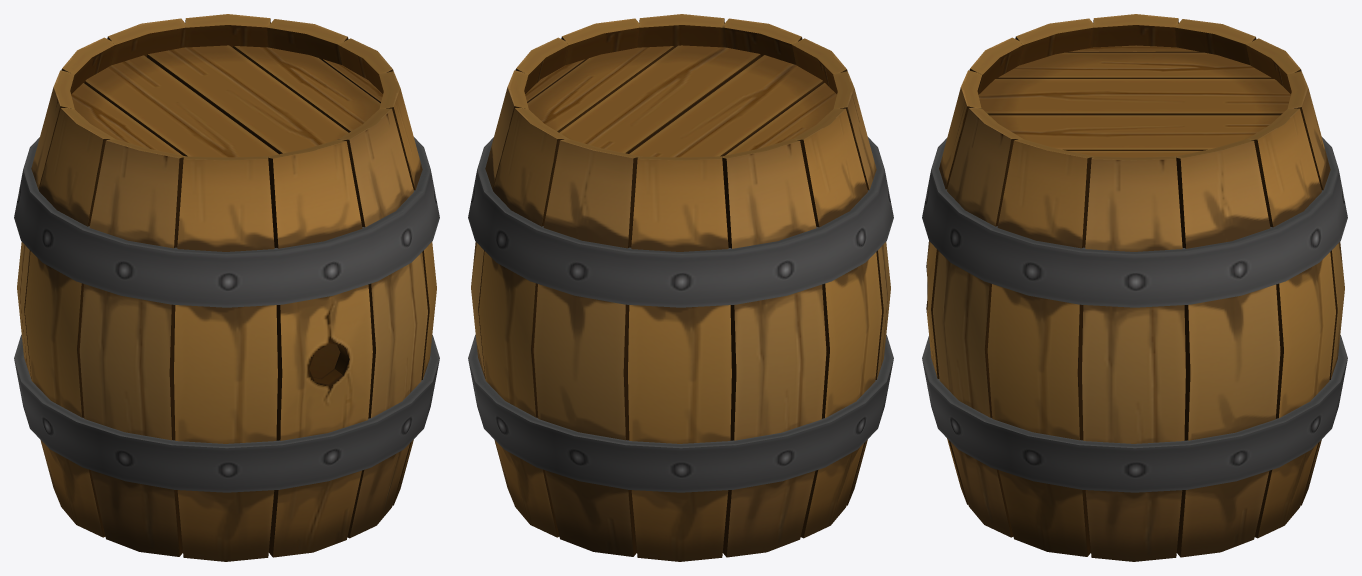
Rendered from Barrel.fbx.
3 renders of one model, left to right at view 1: azimuth 30°, elevation 25°; view 2: azimuth 150°, elevation 25°; view 3: azimuth 270°, elevation 25°, orthographic.
Visible parts, largest first — view 1: Mesh; view 2: Mesh; view 3: Mesh.
Part boxes in pixels (x1,y1,x2,y2): Mesh: (14, 14, 439, 561); Mesh: (468, 14, 893, 561); Mesh: (922, 14, 1347, 561).
Bounding box in the file's own units: 99.32 × 103 × 99.32.
